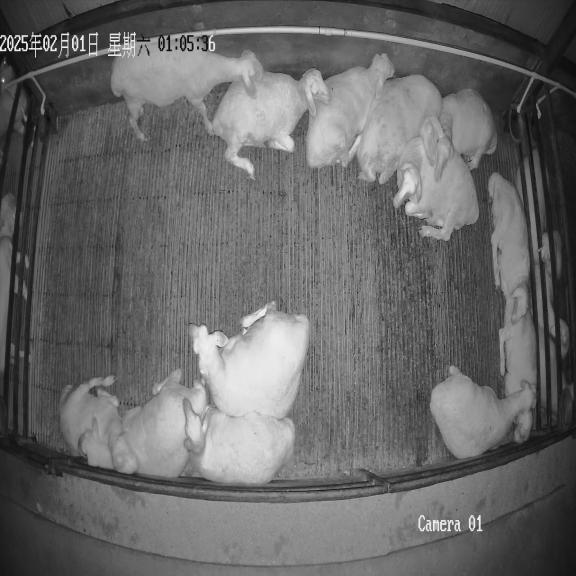lying: (189, 302, 310, 418), (212, 66, 330, 178), (305, 54, 394, 168), (430, 366, 535, 459), (183, 398, 295, 484), (357, 75, 442, 184), (122, 370, 206, 477), (393, 137, 479, 241), (60, 376, 138, 474), (488, 172, 530, 324), (434, 89, 497, 179), (499, 313, 537, 442)
stand: (110, 34, 263, 141)
